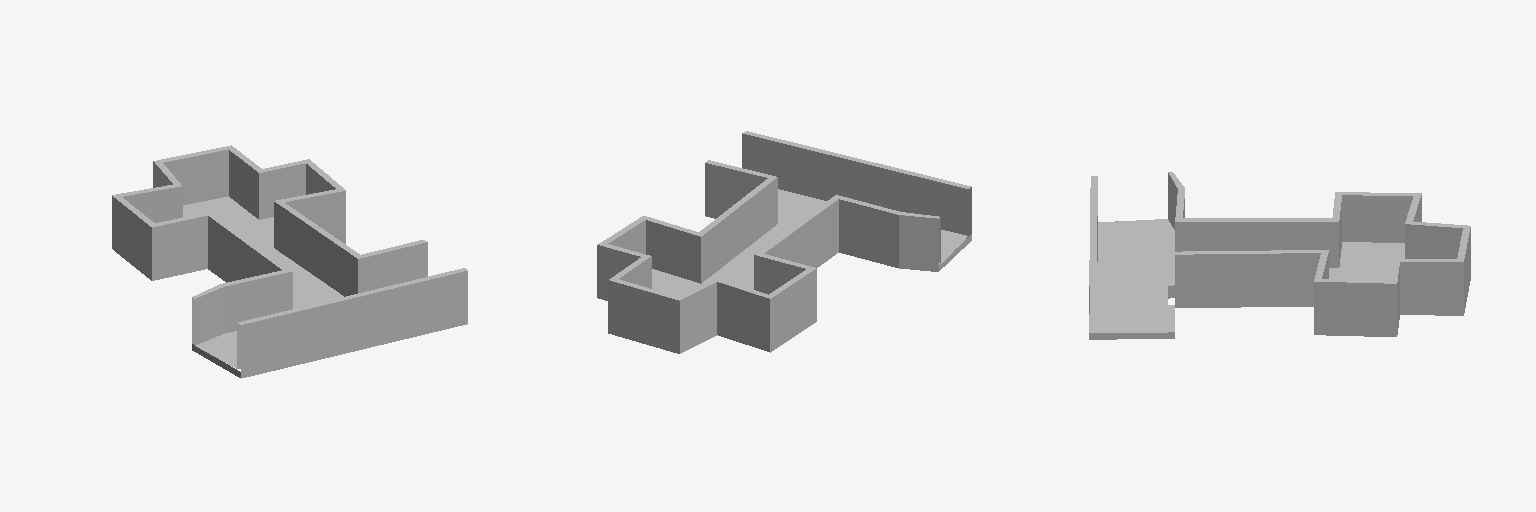
Rendered from Room2.obj.
The picture shows the model from 3 angles: view 1: azimuth 30°, elevation 25°; view 2: azimuth 150°, elevation 25°; view 3: azimuth 270°, elevation 25°; orthographic projection.
Visible parts, largest first — view 1: Room2; view 2: Room2; view 3: Room2.
Part boxes in pixels (x1,y1,x2,y2): Room2: (112, 145, 467, 378); Room2: (597, 131, 971, 353); Room2: (1089, 172, 1470, 339).
Size of the model in its own units: 18.34 by 4 by 25.85.